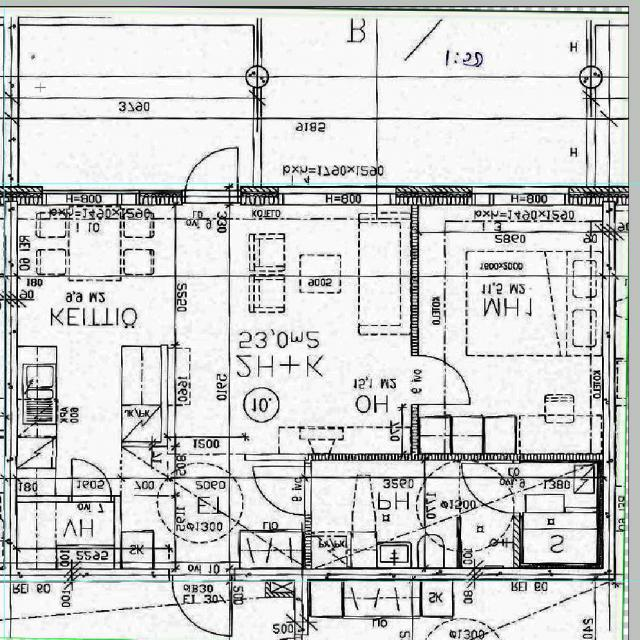door: (173, 568, 231, 637), (186, 136, 238, 206), (463, 464, 522, 512), (254, 466, 311, 514), (412, 356, 469, 403), (72, 457, 113, 503)
